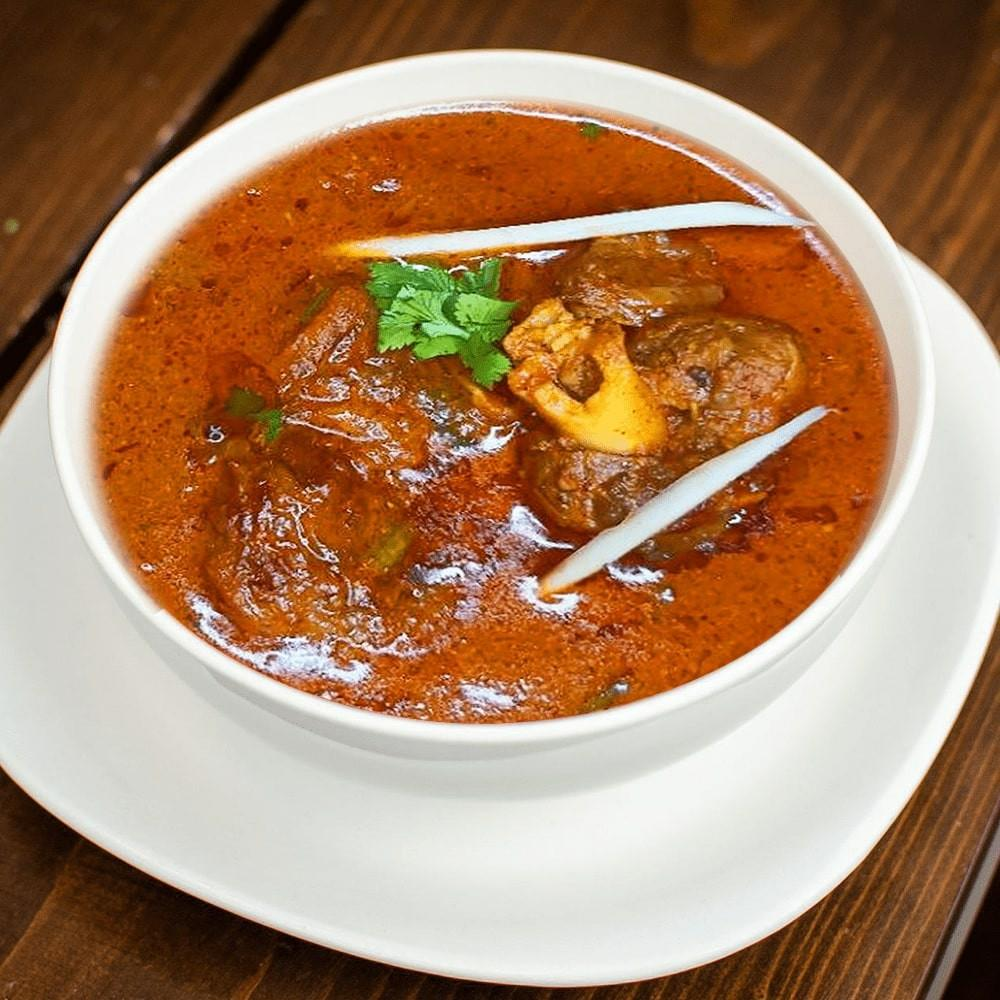MuttonCurry: (89, 104, 891, 720)
